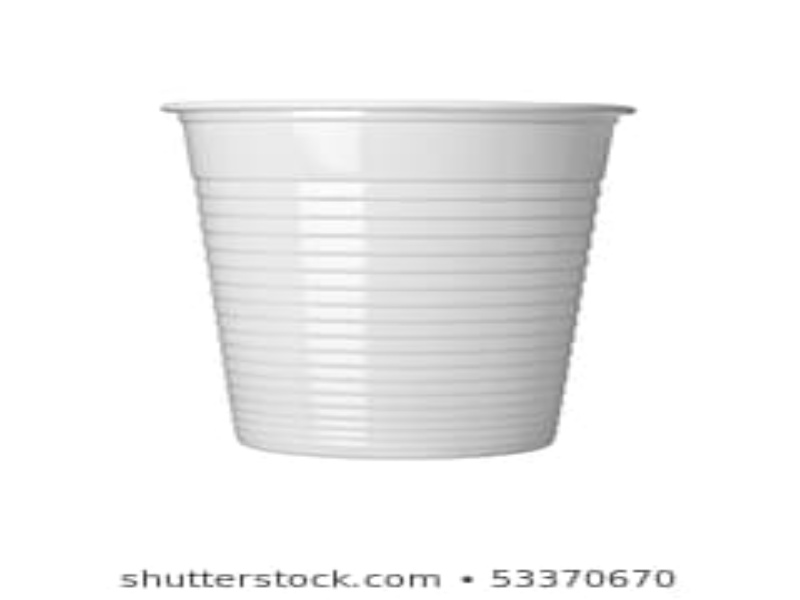plastic-cup: (157, 97, 644, 462)
